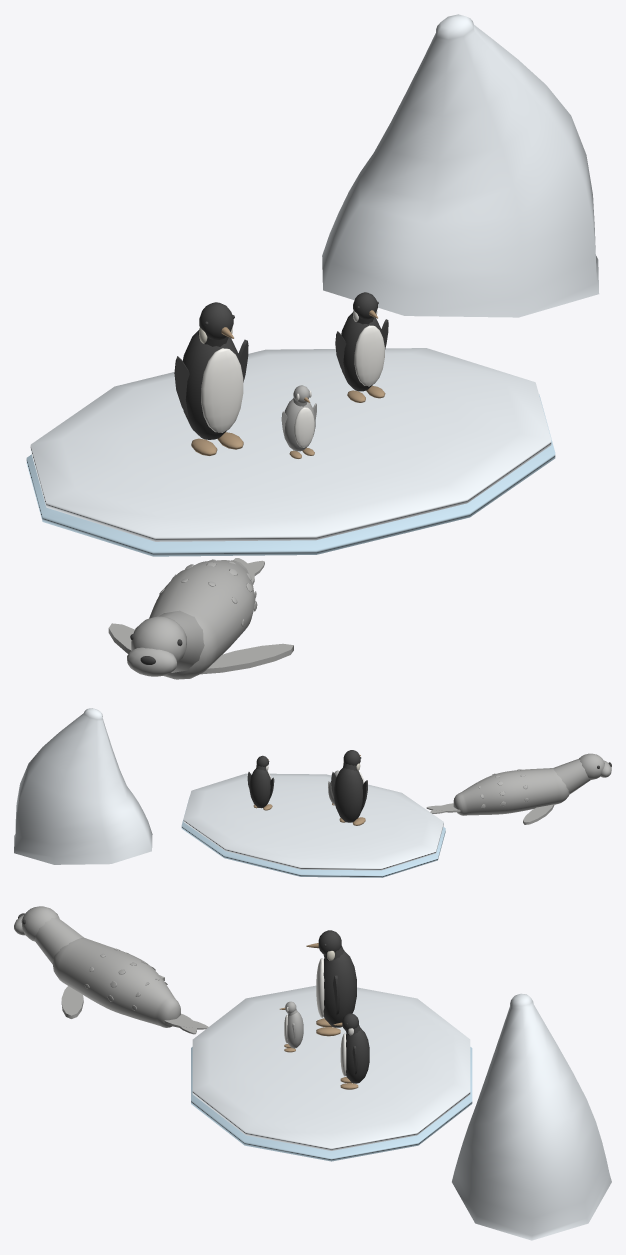
The model's file is ice_penguins.glb.
3 views of the same model, one above another, from view 1: azimuth 30°, elevation 25°; view 2: azimuth 150°, elevation 25°; view 3: azimuth 270°, elevation 25° (orthographic). The views are drawn at different scales.
Parts seen in each view (by area): view 1: 000-ice-floe-slab/1, 005-iceberg-fragment/0, 004-weddell-seal/0, 000-ice-floe-slab/0, 001-emperor-penguin/0, 001-emperor-penguin/1, 003-gentoo-penguin/0, 003-gentoo-penguin/1, 002-emperor-chick/0; view 2: 000-ice-floe-slab/1, 005-iceberg-fragment/0, 004-weddell-seal/0, 000-ice-floe-slab/0, 001-emperor-penguin/0, 003-gentoo-penguin/0; view 3: 000-ice-floe-slab/1, 005-iceberg-fragment/0, 004-weddell-seal/0, 000-ice-floe-slab/0, 001-emperor-penguin/0, 003-gentoo-penguin/0, 002-emperor-chick/0.
Part boxes in pixels (bbox=[...]): 000-ice-floe-slab/1: bbox=[30, 348, 551, 541]; 005-iceberg-fragment/0: bbox=[322, 14, 599, 317]; 004-weddell-seal/0: bbox=[108, 558, 293, 679]; 000-ice-floe-slab/0: bbox=[26, 394, 555, 556]; 001-emperor-penguin/0: bbox=[174, 302, 248, 439]; 001-emperor-penguin/1: bbox=[201, 348, 243, 432]; 003-gentoo-penguin/0: bbox=[335, 292, 388, 391]; 003-gentoo-penguin/1: bbox=[353, 311, 384, 386]; 002-emperor-chick/0: bbox=[281, 385, 316, 451]; 000-ice-floe-slab/1: bbox=[183, 773, 443, 870]; 005-iceberg-fragment/0: bbox=[14, 708, 152, 864]; 004-weddell-seal/0: bbox=[426, 753, 611, 824]; 000-ice-floe-slab/0: bbox=[181, 797, 445, 877]; 001-emperor-penguin/0: bbox=[331, 750, 367, 822]; 003-gentoo-penguin/0: bbox=[247, 755, 274, 808]; 000-ice-floe-slab/1: bbox=[192, 985, 470, 1150]; 005-iceberg-fragment/0: bbox=[452, 993, 611, 1240]; 004-weddell-seal/0: bbox=[14, 906, 208, 1034]; 000-ice-floe-slab/0: bbox=[191, 1047, 472, 1161]; 001-emperor-penguin/0: bbox=[318, 930, 356, 1027]; 003-gentoo-penguin/0: bbox=[342, 1013, 369, 1083]; 002-emperor-chick/0: bbox=[285, 1001, 303, 1048].
Size of the model in its own units: 6.58 by 2.16 by 5.97.
